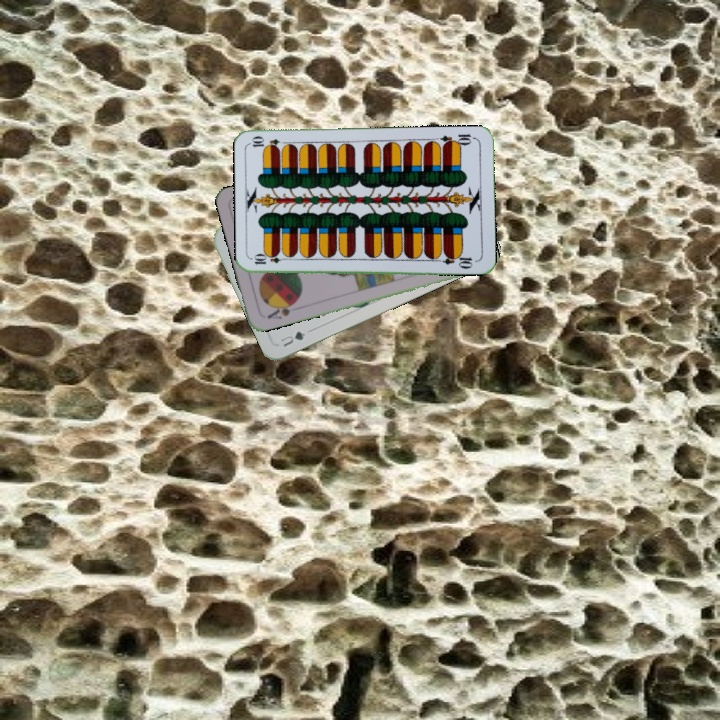E10: (437, 130, 478, 149), (250, 253, 291, 267)
GU: (276, 327, 308, 350)
SA: (263, 297, 299, 322)
